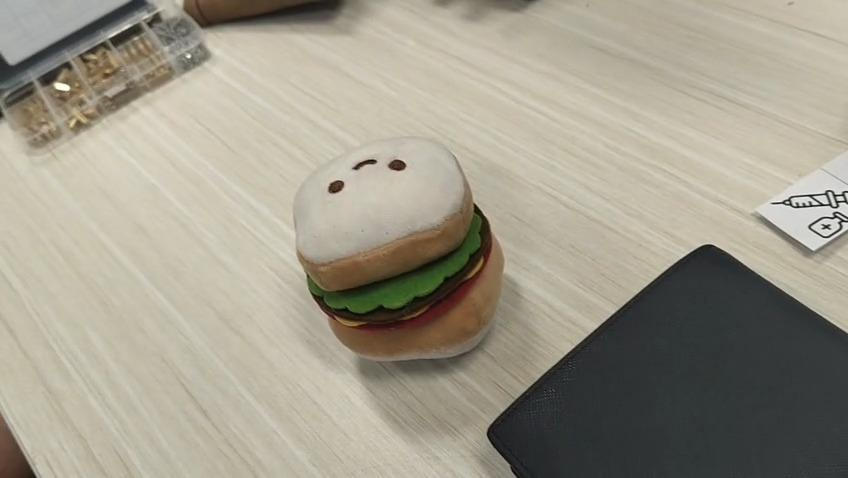objects: (293, 133, 501, 361)
